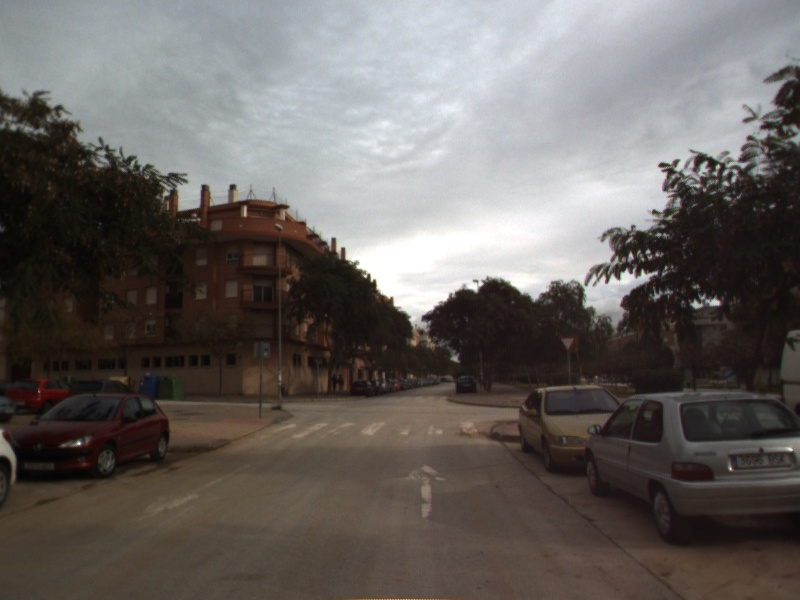STRAIGHT: (401, 462, 450, 520)
